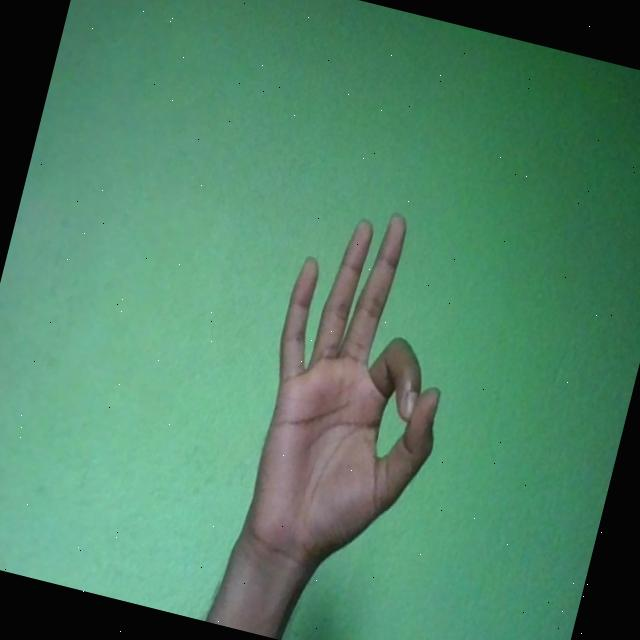Rock On: (225, 190, 486, 595)
